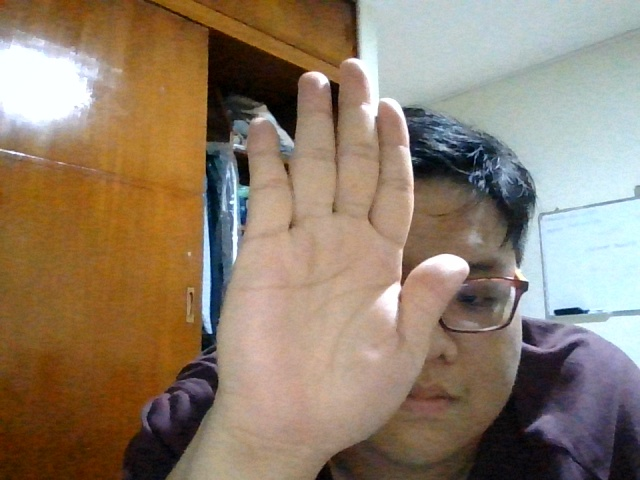hola: (204, 54, 470, 457)
